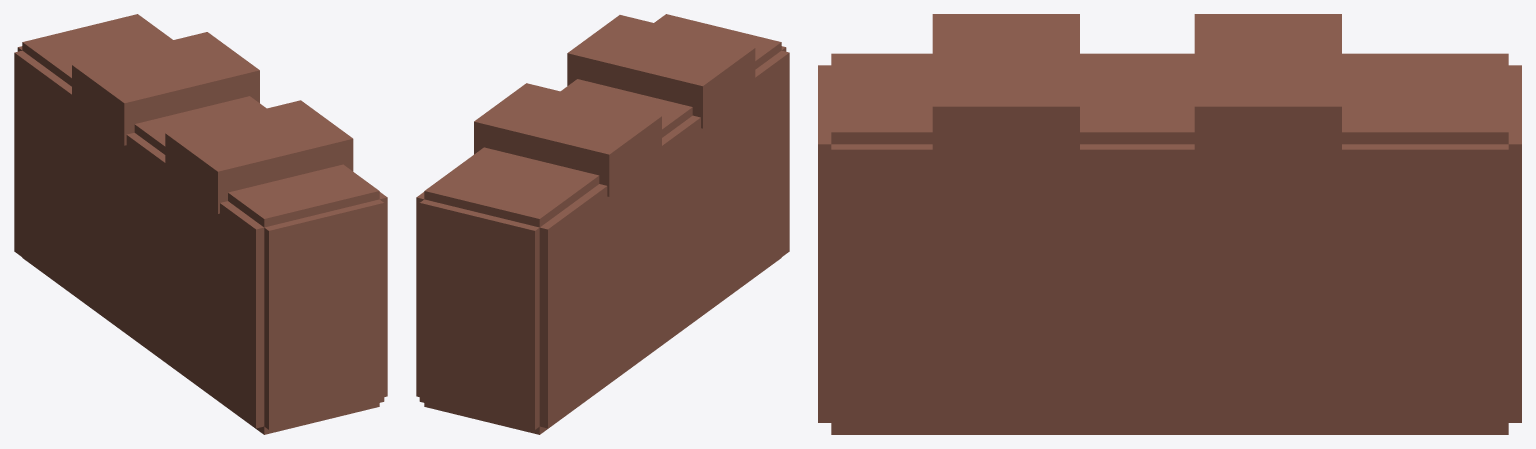
Rendered from item_brick_hand.glb.
3 views of the same model, side by side, from view 1: azimuth 30°, elevation 25°; view 2: azimuth 150°, elevation 25°; view 3: azimuth 270°, elevation 25° (orthographic). The views are drawn at different scales.
Parts seen in each view (by area): view 1: brick; view 2: brick; view 3: brick.
Boxes of the visible parts, x1=… form: brick: x1=14, y1=14, x2=387, y2=434; brick: x1=416, y1=14, x2=789, y2=434; brick: x1=818, y1=14, x2=1521, y2=434.
Bounding box in the file's own units: 0.067 × 0.113 × 0.215.
